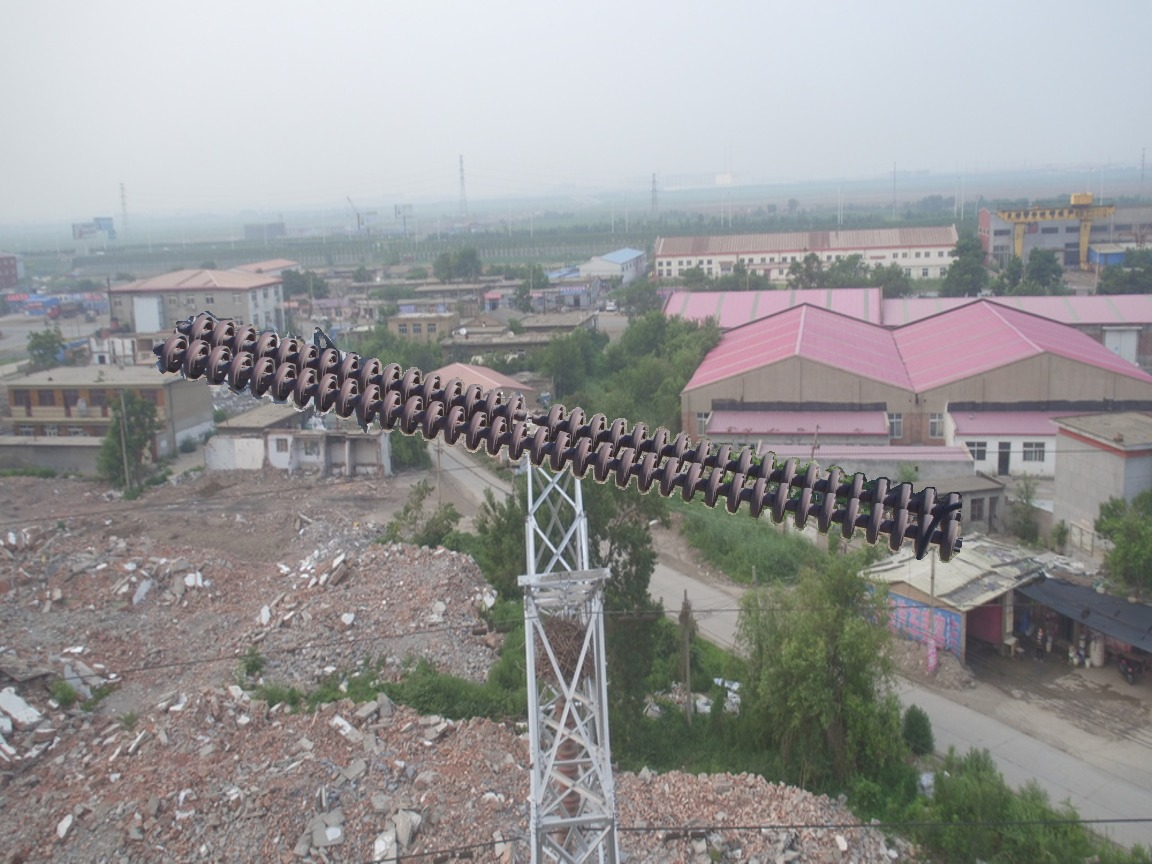defect: (498, 392, 567, 432)
